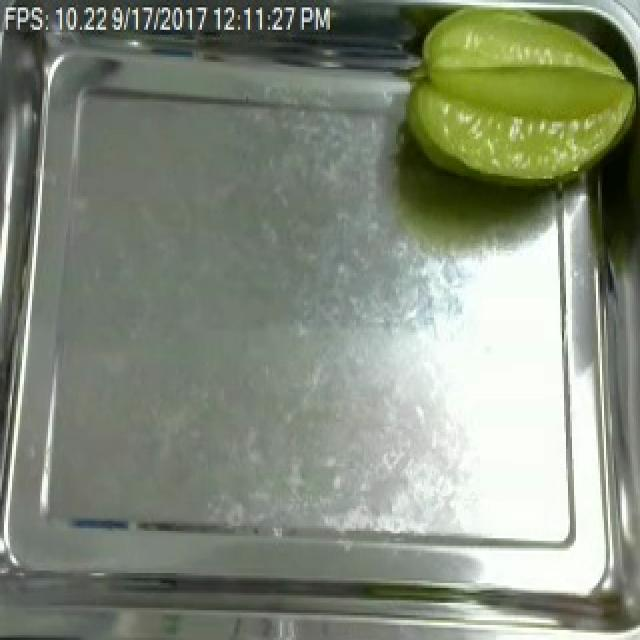fruit: (400, 0, 640, 189)
